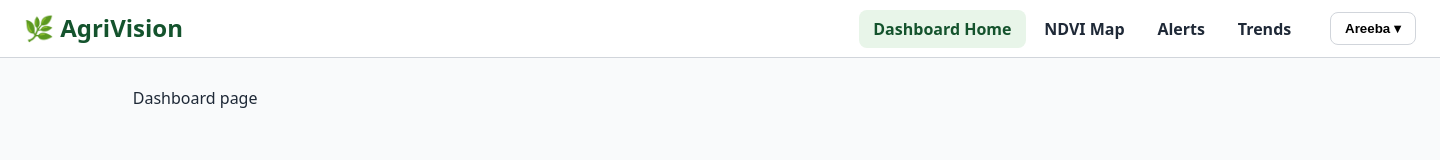
Farmer layout › moves to another page and highlights its link
Click the link "Trends" at (1265, 29), box [1238,18,1291,40]
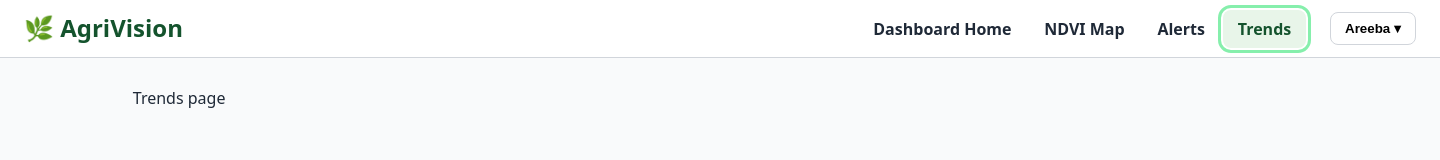
Now the text "Trends page" is shown, box [133,87,225,109]
